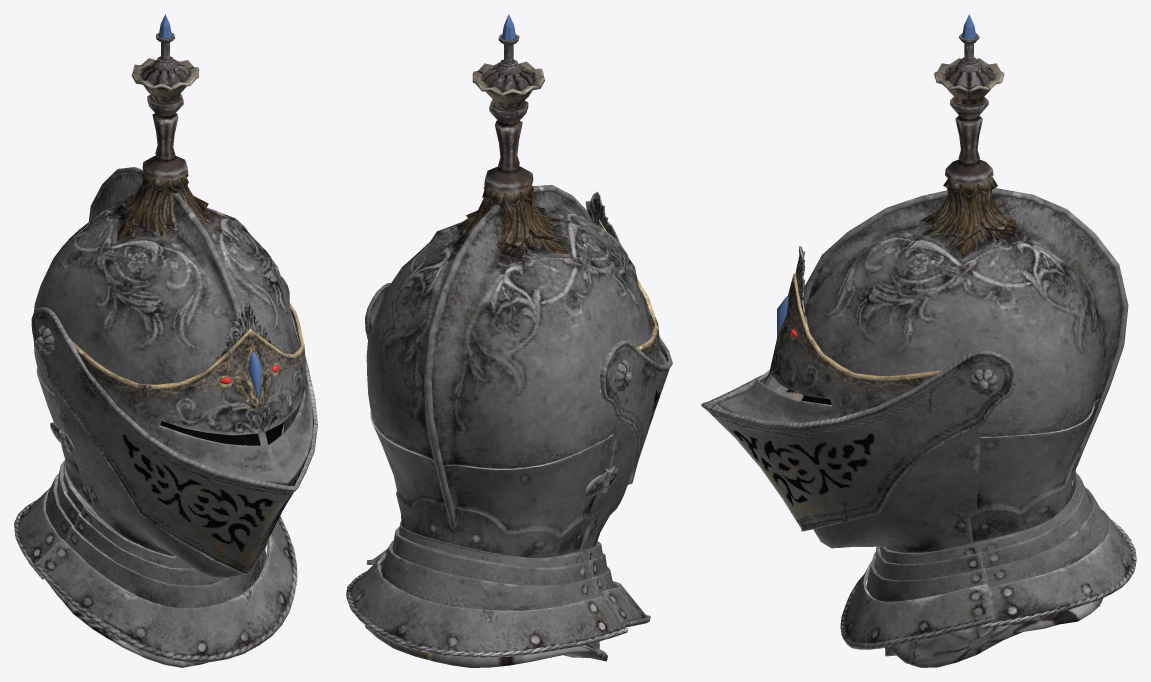
The model's file is H_Caria.glb.
The picture shows the model from 3 angles, left to right: view 1: azimuth 30°, elevation 25°; view 2: azimuth 150°, elevation 25°; view 3: azimuth 270°, elevation 25°; orthographic projection. The views are drawn at different scales.
Parts seen in each view (by area): view 1: Metal|P[HD_M_1500]_Metal.matxml|mesh0, #44#_Metal|P[HD_M_1500]_Metal.matxml|mesh3, Fabric|P[HD_M_1500]_Fabric.matxml|mesh2, Crystal|P[HD_M_1500]_Crystal.matxml|mesh1; view 2: Metal|P[HD_M_1500]_Metal.matxml|mesh0, #44#_Metal|P[HD_M_1500]_Metal.matxml|mesh3, Fabric|P[HD_M_1500]_Fabric.matxml|mesh2, #45#_Metal|P[HD_M_1500]_Metal.matxml|mesh4; view 3: Metal|P[HD_M_1500]_Metal.matxml|mesh0, #44#_Metal|P[HD_M_1500]_Metal.matxml|mesh3, Fabric|P[HD_M_1500]_Fabric.matxml|mesh2.
Boxes of the visible parts, x1,y1,x2,y2 form: Metal|P[HD_M_1500]_Metal.matxml|mesh0: [31, 33, 317, 578]; #44#_Metal|P[HD_M_1500]_Metal.matxml|mesh3: [14, 459, 297, 662]; Fabric|P[HD_M_1500]_Fabric.matxml|mesh2: [45, 498, 207, 667]; Crystal|P[HD_M_1500]_Crystal.matxml|mesh1: [159, 14, 278, 397]; Metal|P[HD_M_1500]_Metal.matxml|mesh0: [365, 34, 672, 557]; #44#_Metal|P[HD_M_1500]_Metal.matxml|mesh3: [346, 521, 650, 657]; Fabric|P[HD_M_1500]_Fabric.matxml|mesh2: [365, 625, 607, 667]; #45#_Metal|P[HD_M_1500]_Metal.matxml|mesh4: [397, 522, 597, 567]; Metal|P[HD_M_1500]_Metal.matxml|mesh0: [701, 33, 1128, 552]; #44#_Metal|P[HD_M_1500]_Metal.matxml|mesh3: [840, 472, 1136, 649]; Fabric|P[HD_M_1500]_Fabric.matxml|mesh2: [885, 598, 1103, 667].
Size of the model in its own units: 0.1717 by 0.4191 by 0.259.
5 materials, 5 textured.
